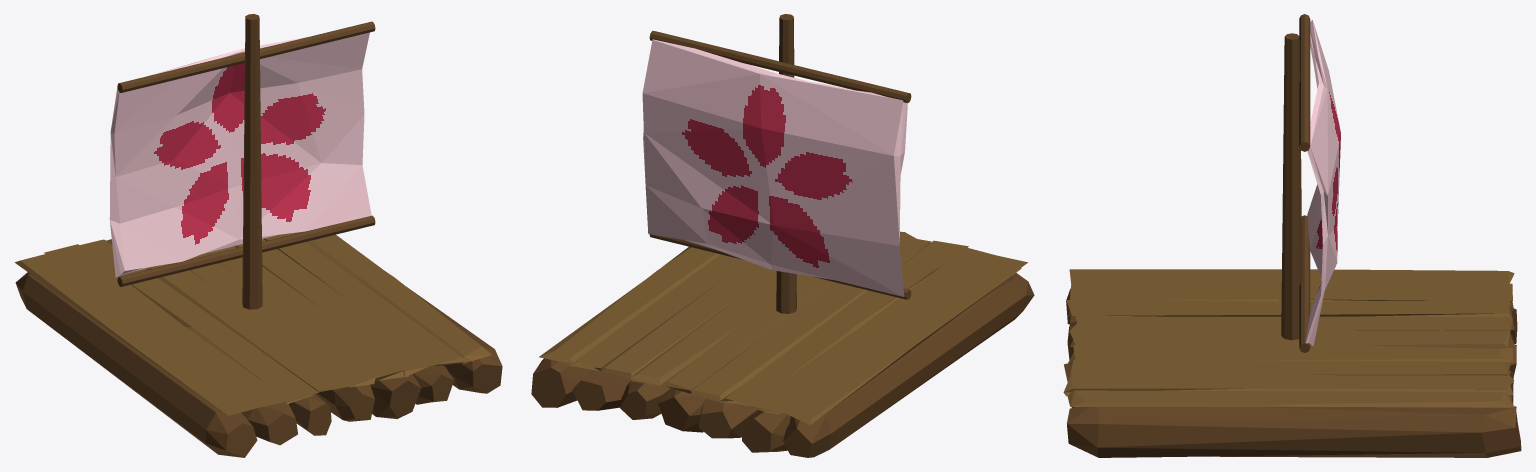
The model's file is raft.fbx.
The picture shows the model from 3 angles, left to right: view 1: azimuth 30°, elevation 25°; view 2: azimuth 150°, elevation 25°; view 3: azimuth 270°, elevation 25°; orthographic projection. The views are drawn at different scales.
Parts seen in each view (by area): view 1: Planks, Sail, Rafft.002, Pole, Pole.001, Pole.002; view 2: Sail, Planks, Rafft.002, Pole.001, Pole, Pole.002; view 3: Planks, Rafft.002, Sail, Pole, Pole.001, Pole.002.
Part boxes in pixels (x1,y1,x2,y2): Planks: (14, 231, 492, 415); Sail: (109, 32, 371, 277); Rafft.002: (15, 272, 502, 457); Pole: (242, 14, 262, 309); Pole.001: (117, 21, 375, 92); Pole.002: (117, 215, 375, 286); Sail: (642, 39, 907, 296); Planks: (539, 231, 1027, 425); Rafft.002: (531, 246, 1034, 457); Pole.001: (649, 30, 911, 102); Pole: (776, 14, 796, 313); Pole.002: (649, 234, 911, 299); Planks: (1063, 269, 1514, 407); Rafft.002: (1064, 288, 1521, 457); Sail: (1305, 20, 1340, 346); Pole: (1281, 33, 1302, 340); Pole.001: (1299, 14, 1310, 151); Pole.002: (1299, 215, 1310, 352).
Size of the model in its own units: 355 by 397 by 460.
Materials: 4 (1 with a texture image).
